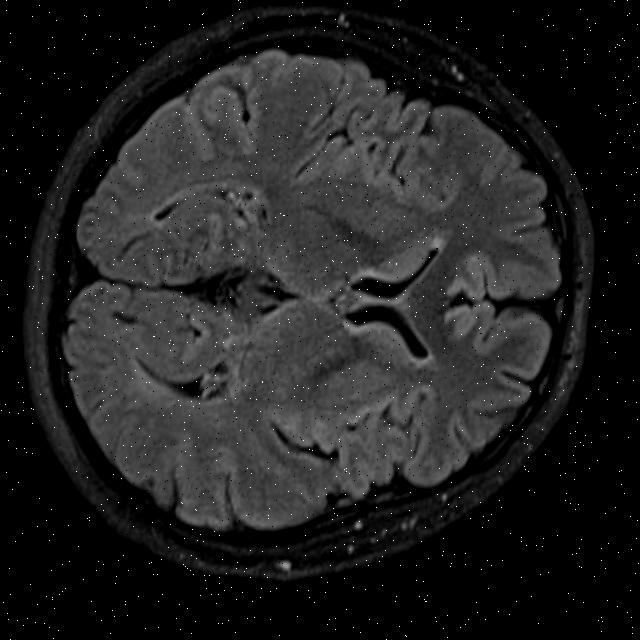NoTumor: (21, 0, 603, 600)
